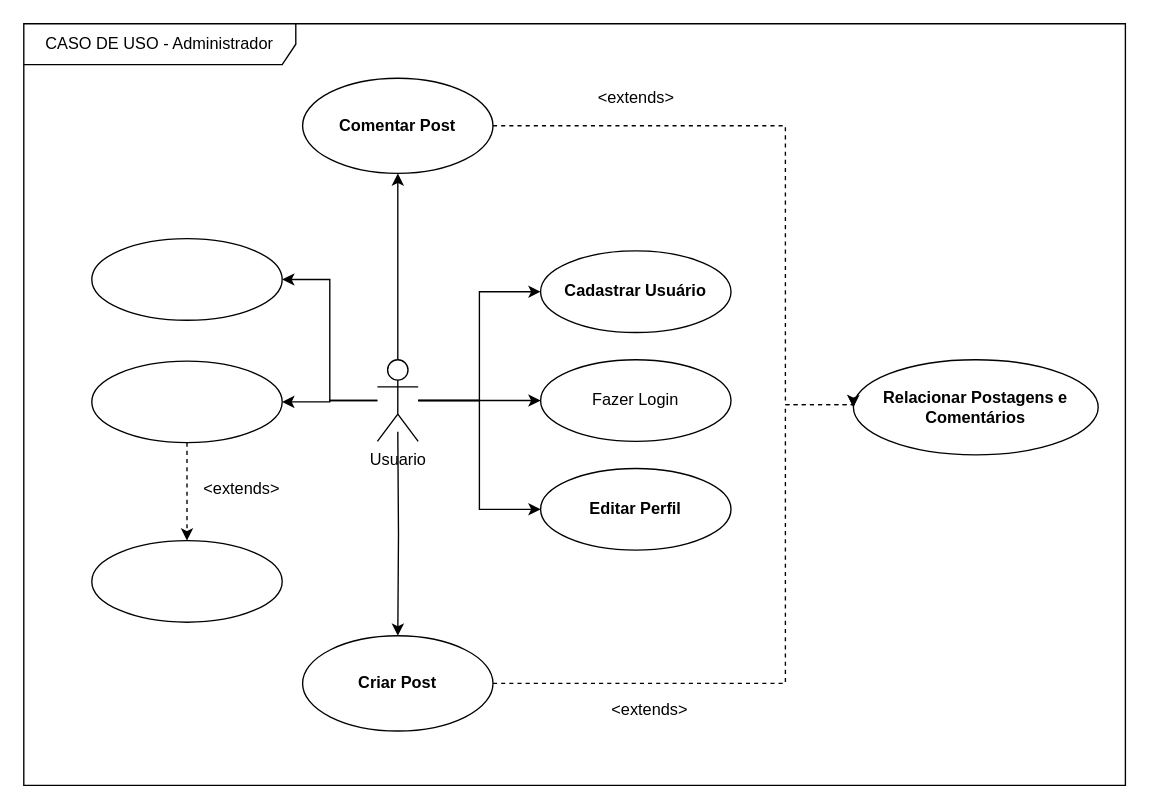
The diagram is 1149 pixels wide and 809 high, and some of its shapes have lost their labels. The shapes that lost their labels are listed below. From the top down, each one's centre as x and y in pixels, then its label:
(x=186, y=278): Visualizar Posts
(x=186, y=401): Excluir Posts
(x=186, y=580): Excluir Comentarios
